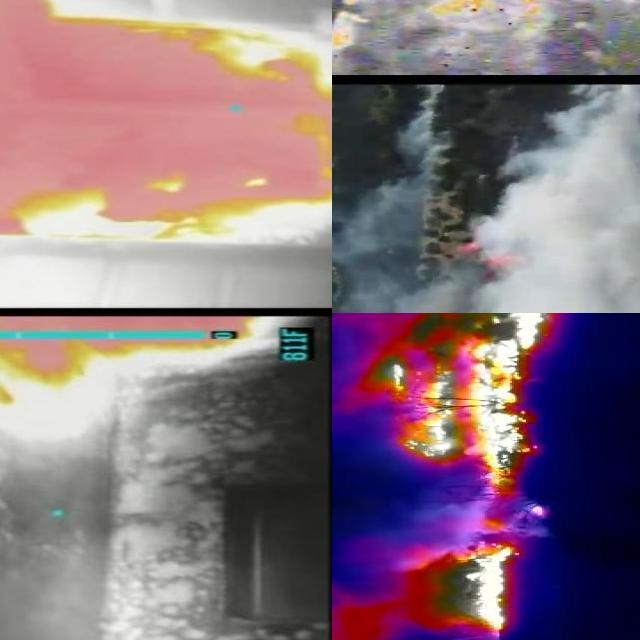fire: (1, 1, 333, 261), (358, 314, 552, 497), (386, 503, 550, 640), (1, 314, 267, 379), (454, 240, 524, 271), (333, 1, 369, 58)
